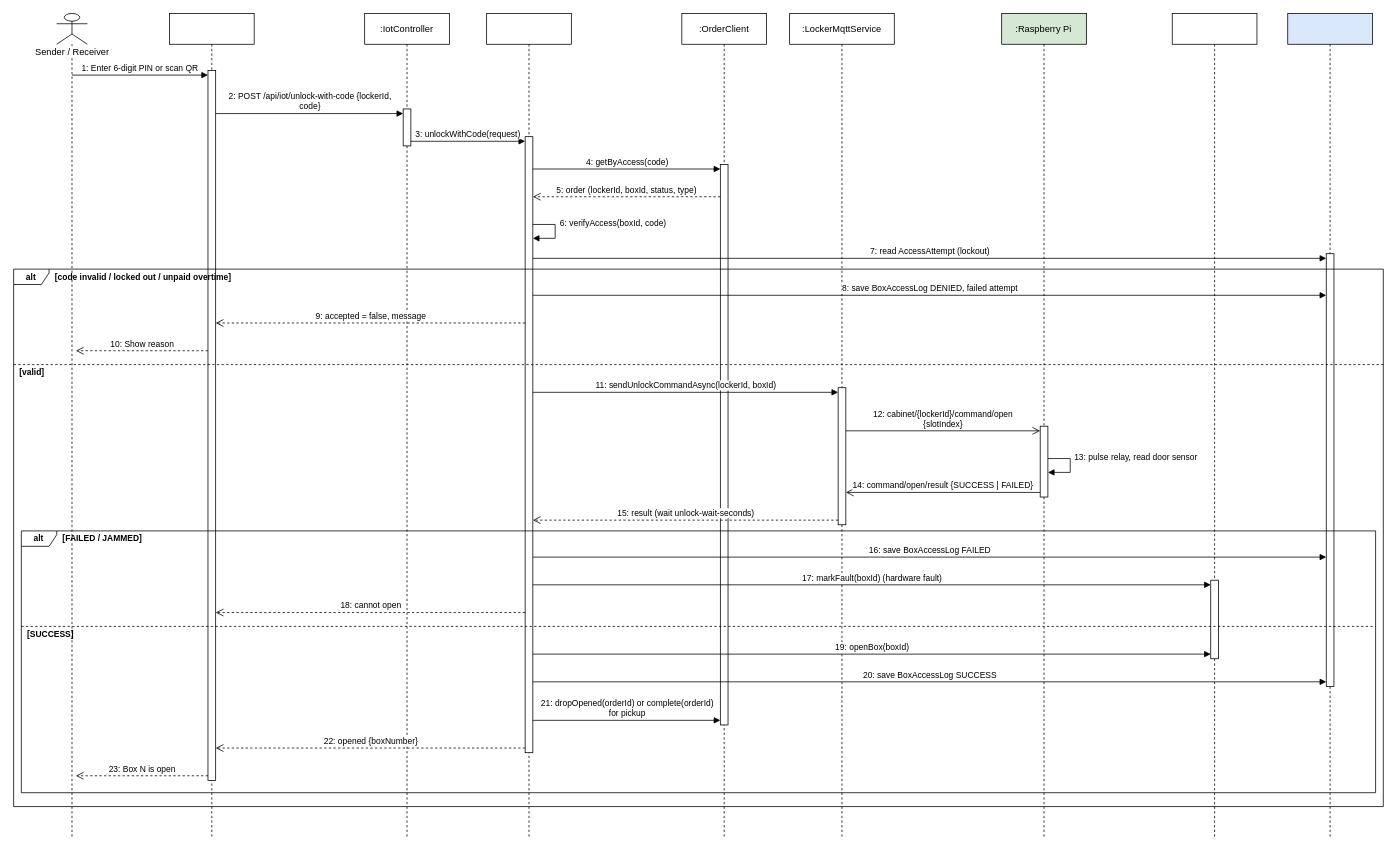
The diagram is 1398 pixels wide and 852 high, and some of its shapes have lost their labels. The shapes that lost their labels are listed below. From the top down, each one's box as (x1, y1, x2, y2) in pixels, then its label:
(169, 13, 254, 839): :KioskScreen
(486, 13, 571, 839): :IotService
(1171, 13, 1257, 839): :LockerClient
(1287, 13, 1372, 839): :iot_db
